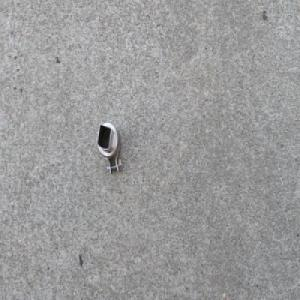MetalPart: (95, 122, 124, 177)
